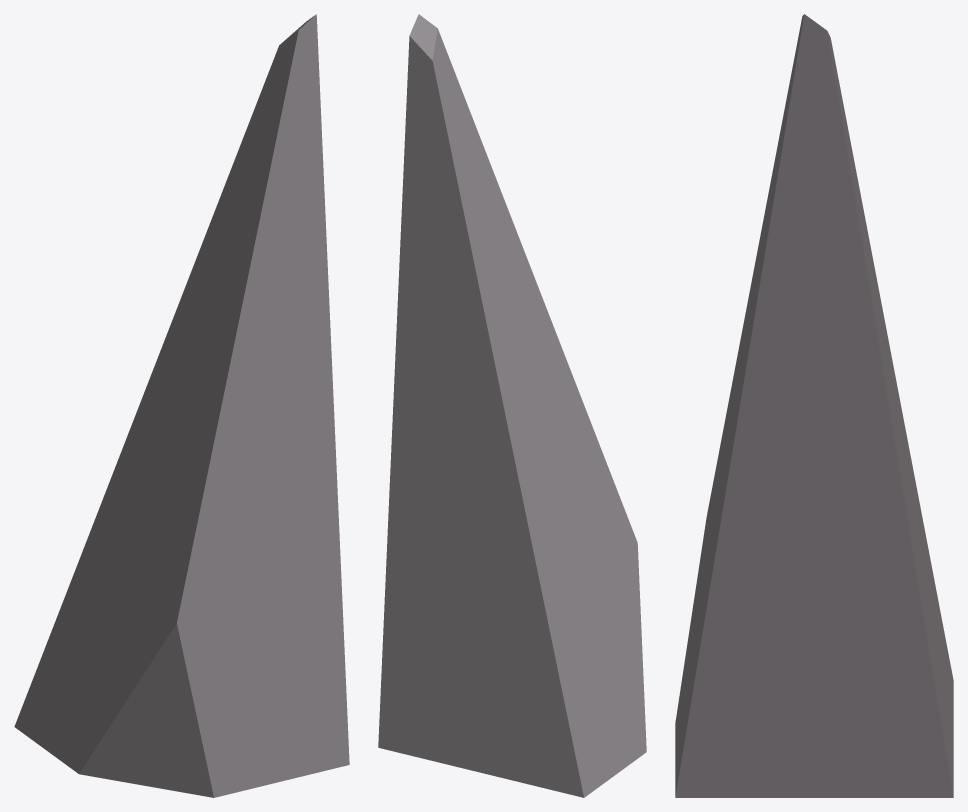
Rendered from Rock_Sharp_s_02.fbx.
The picture shows the model from 3 angles, left to right: view 1: azimuth 30°, elevation 25°; view 2: azimuth 150°, elevation 25°; view 3: azimuth 270°, elevation 25°; orthographic projection. The views are drawn at different scales.
Visible parts, largest first — view 1: Rock_Sharp_s_02; view 2: Rock_Sharp_s_02; view 3: Rock_Sharp_s_02.
Part boxes in pixels (x1,y1,x2,y2): Rock_Sharp_s_02: [14, 14, 349, 797]; Rock_Sharp_s_02: [378, 14, 646, 797]; Rock_Sharp_s_02: [675, 14, 953, 797].
Bounding box in the file's own units: 24.88 × 70.7 × 22.36.
